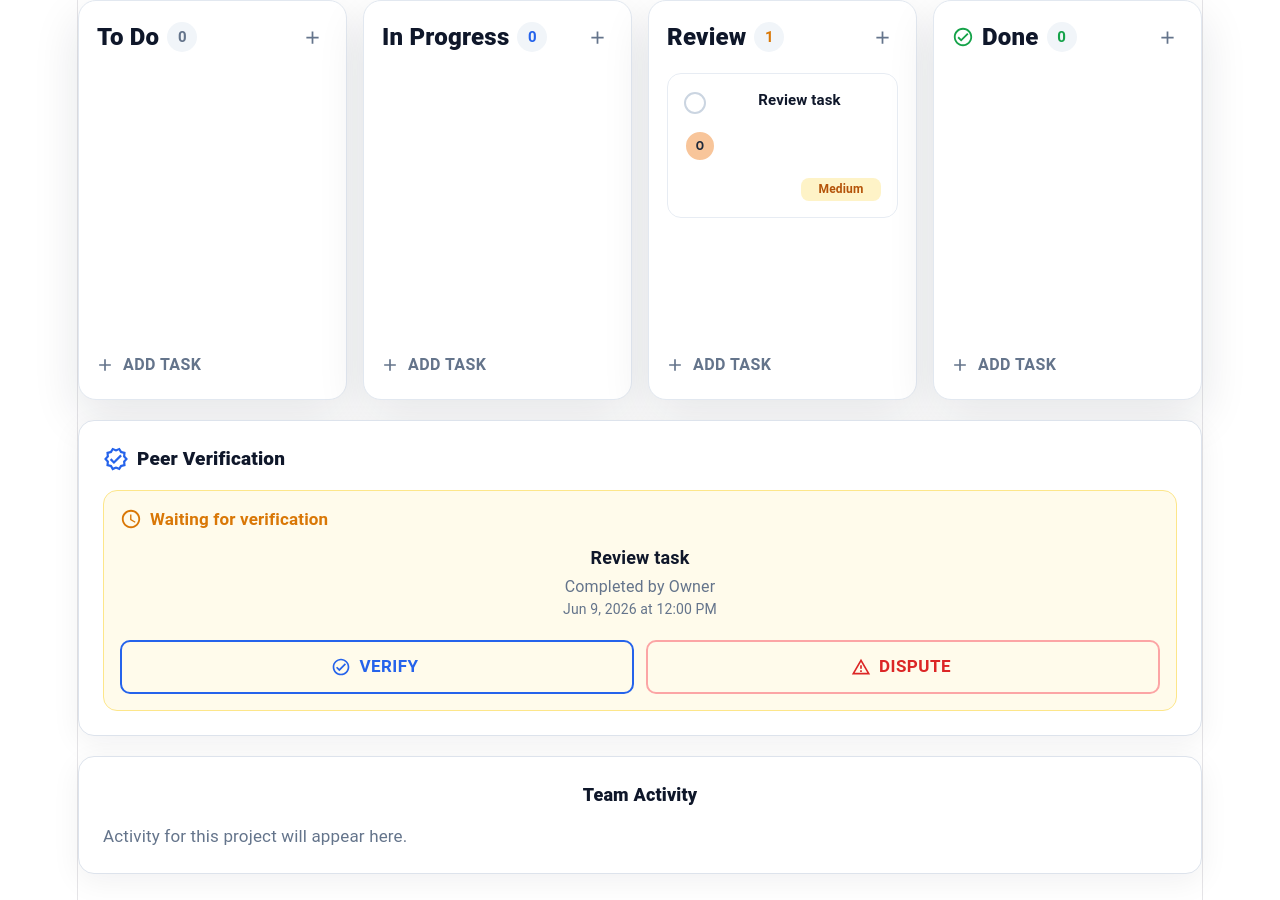
Test: TasksTab dispute flow › opens a separate dispute dialog from the peer verification card
Click the button "Dispute": (903, 667) [646,640,1160,694]
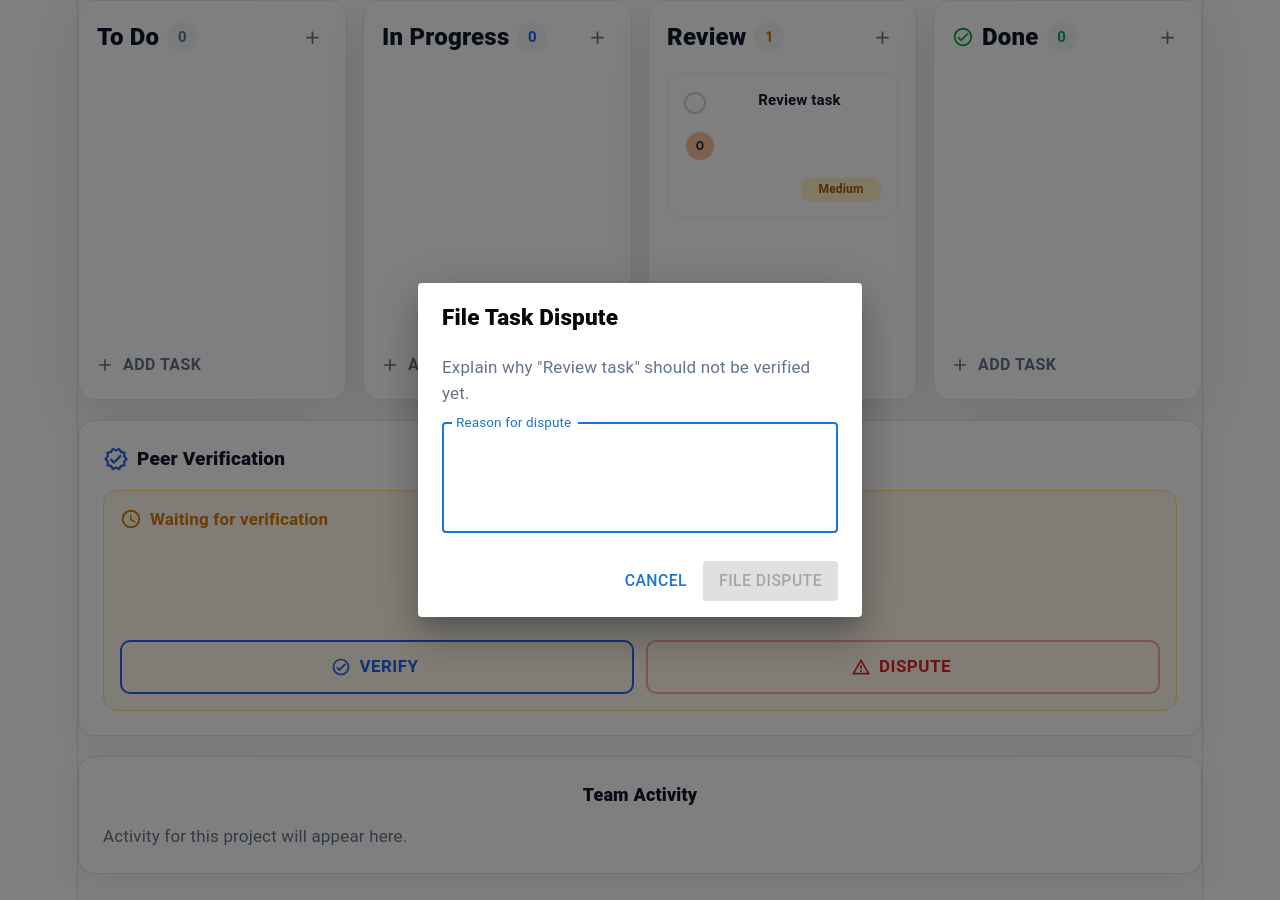
Check: the dialog "File Task Dispute" is shown, box [418,283,862,617]
